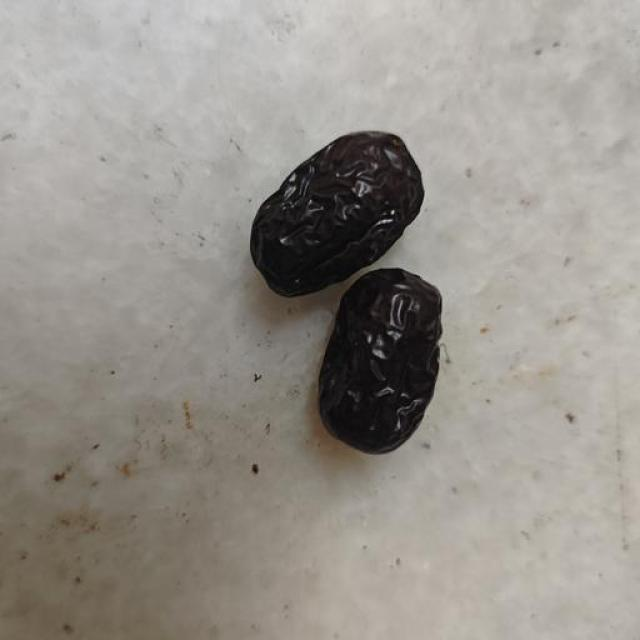organic: (223, 108, 491, 469)
